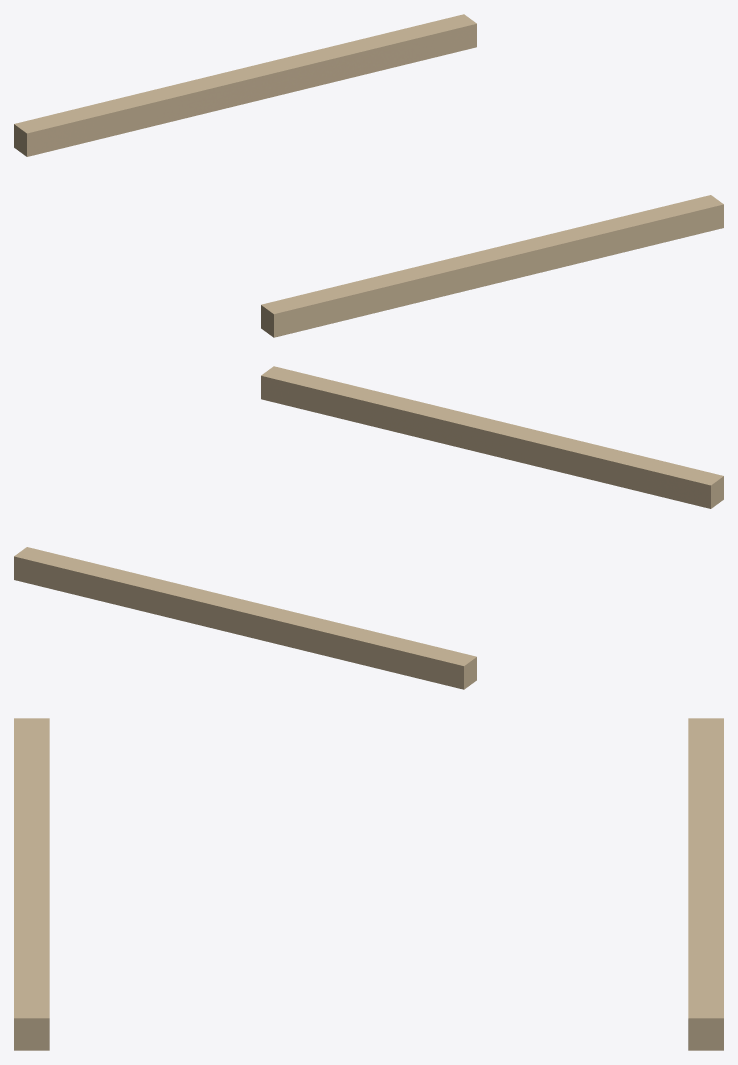
The picture shows the model from 3 angles, top to bottom: view 1: azimuth 30°, elevation 25°; view 2: azimuth 150°, elevation 25°; view 3: azimuth 270°, elevation 25°; orthographic projection. The views are drawn at different scales.
Visible parts, largest first — view 1: Deco_ring_2; view 2: Deco_ring_2; view 3: Deco_ring_2.
Part boxes in pixels (x1,y1,x2,y2): Deco_ring_2: [14, 14, 723, 337]; Deco_ring_2: [14, 366, 723, 689]; Deco_ring_2: [14, 718, 723, 1050].
Size of the model in its own units: 20 by 1 by 20.
1 material, 1 textured.
